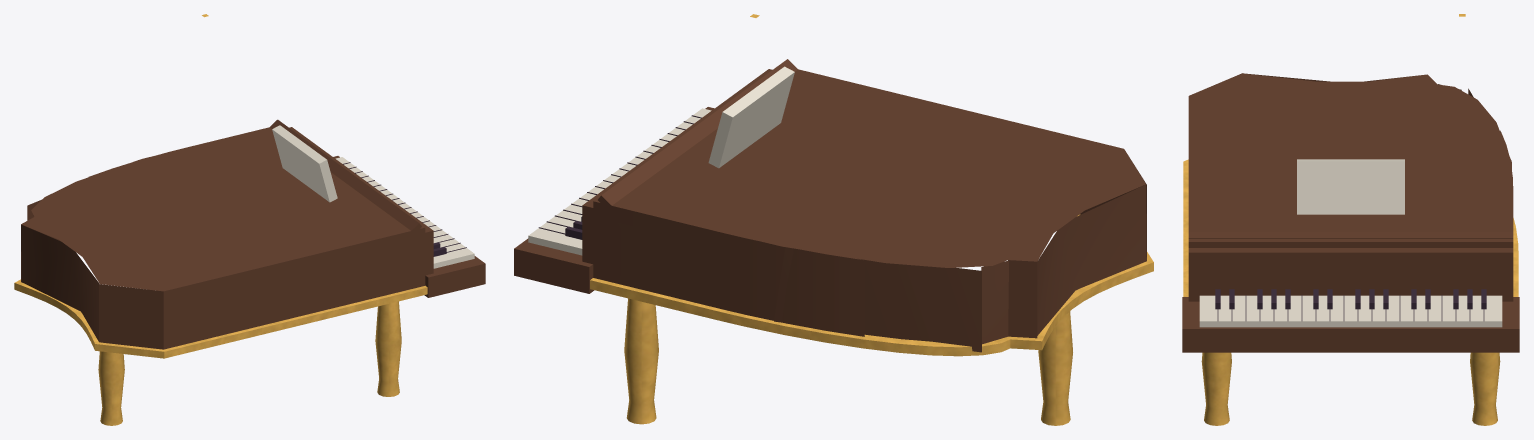
File: sp_band_piano.glb
3 views of the same model, side by side, from view 1: azimuth 30°, elevation 25°; view 2: azimuth 150°, elevation 25°; view 3: azimuth 270°, elevation 25° (orthographic). The views are drawn at different scales.
Parts seen in each view (by area): view 1: toy_piano_4, toy_piano_0, toy_piano_2; view 2: toy_piano_4, toy_piano_0, toy_piano_2, toy_piano_1; view 3: toy_piano_4, toy_piano_2, toy_piano_0, toy_piano_1.
Boxes of the visible parts, x1,y1,x2,y2 form: toy_piano_4: (21, 119, 485, 349); toy_piano_0: (14, 14, 427, 425); toy_piano_2: (272, 125, 474, 268); toy_piano_4: (514, 59, 1146, 352); toy_piano_0: (590, 14, 1153, 425); toy_piano_2: (528, 66, 794, 255); toy_piano_1: (538, 115, 701, 239); toy_piano_4: (1182, 73, 1519, 352); toy_piano_2: (1199, 159, 1502, 327); toy_piano_0: (1183, 14, 1518, 425); toy_piano_1: (1215, 289, 1486, 320).
Size of the model in its own units: 2.23 by 1.85 by 1.56.
Materials: 4 (1 with a texture image).
